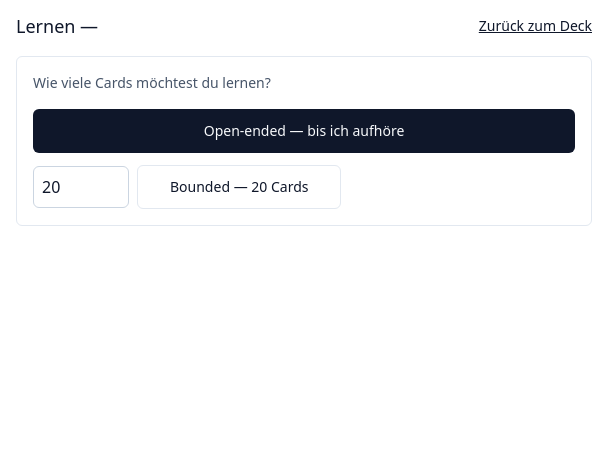
Edit-during-Review (issue #6) › editing after rating preserves the already-written review-log row and SM-2 schedule
What coordinates should you click on to do the following:
click the button "Open-ended — bis ich aufhöre"
I would click on:
 (304, 131)
Its box is [33, 109, 575, 153].
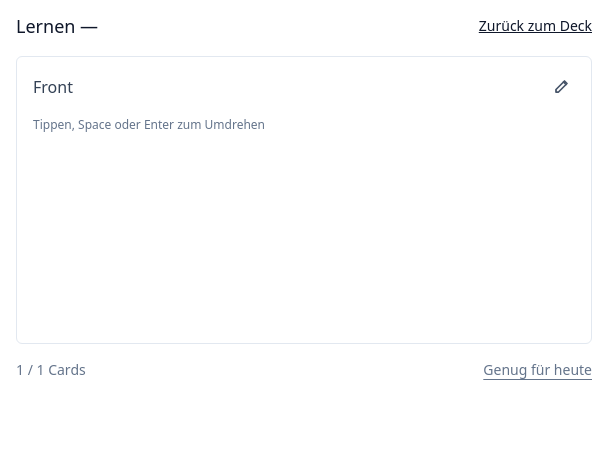
What coordinates should you click on to do the following:
click the button with aria-label "Vorderseite"
I would click on:
 (304, 200)
Its box is [16, 56, 592, 344].
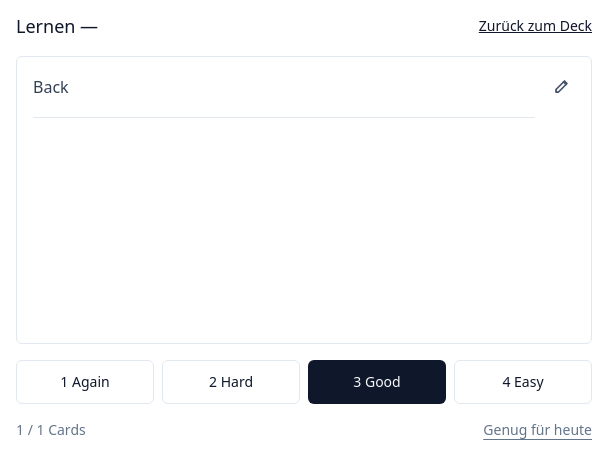
What coordinates should you click on to do the following:
click the button "3 Good"
I would click on:
 (377, 382)
Its box is [308, 360, 446, 404].
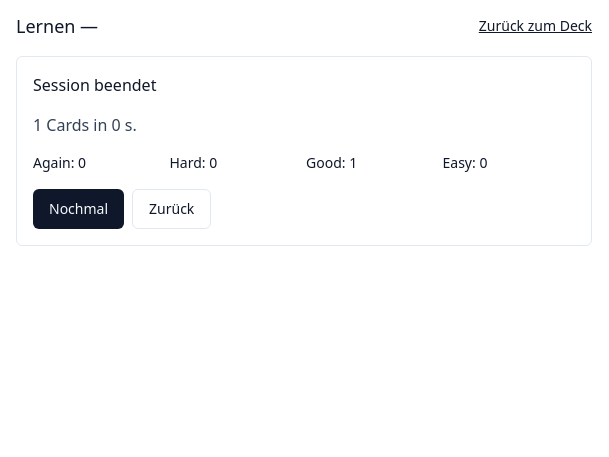
Check: the heading "Session beendet" is shown, box [33, 74, 156, 96]
